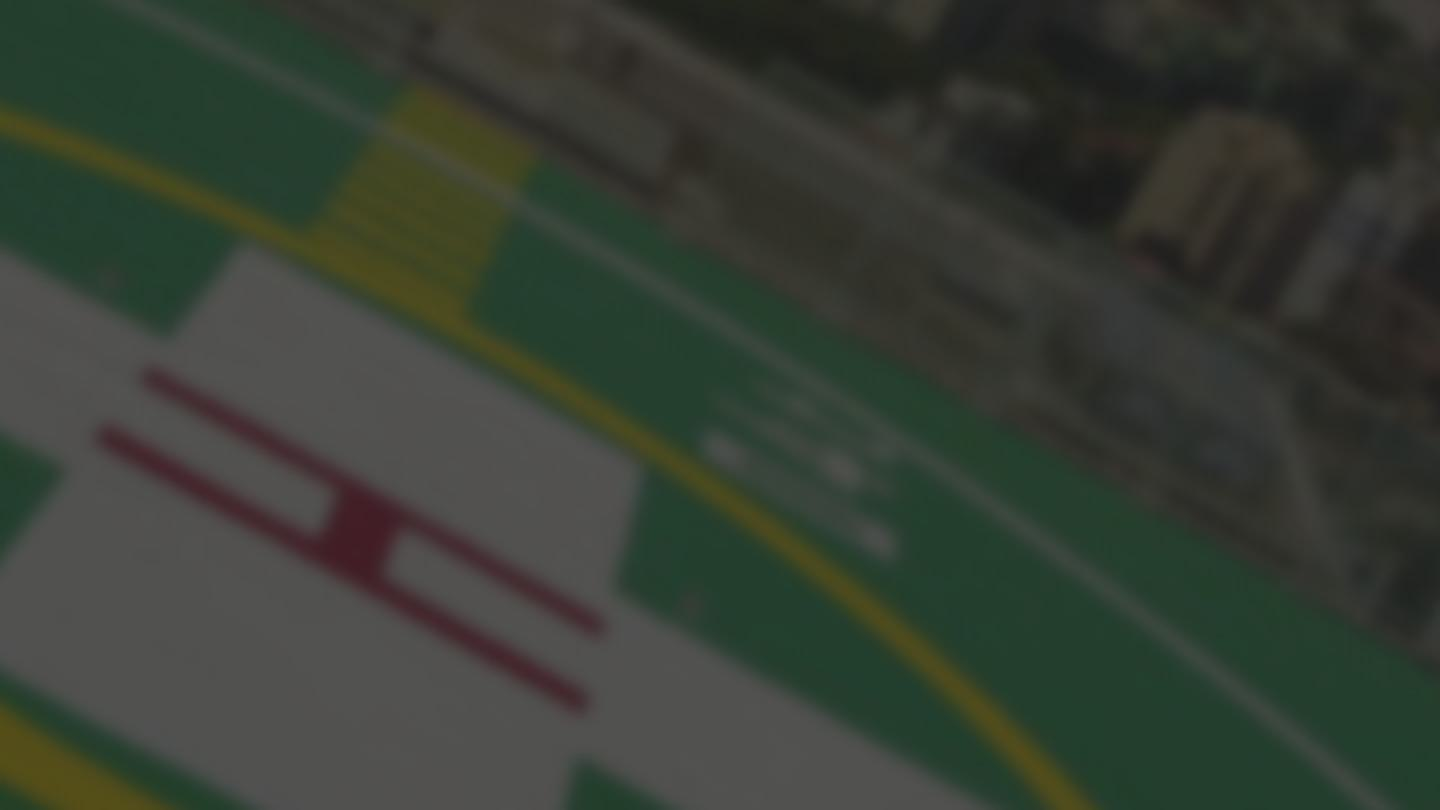Apron: (1, 110, 1093, 807)
